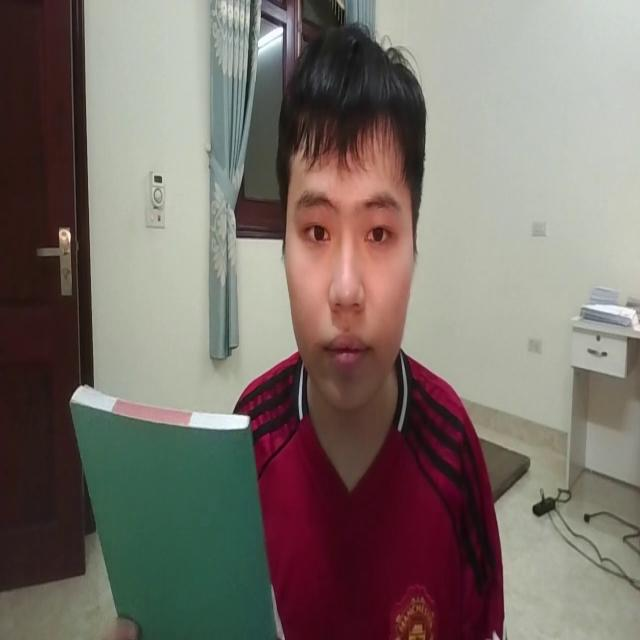book: (67, 369, 277, 640)
student: (233, 22, 497, 640)
